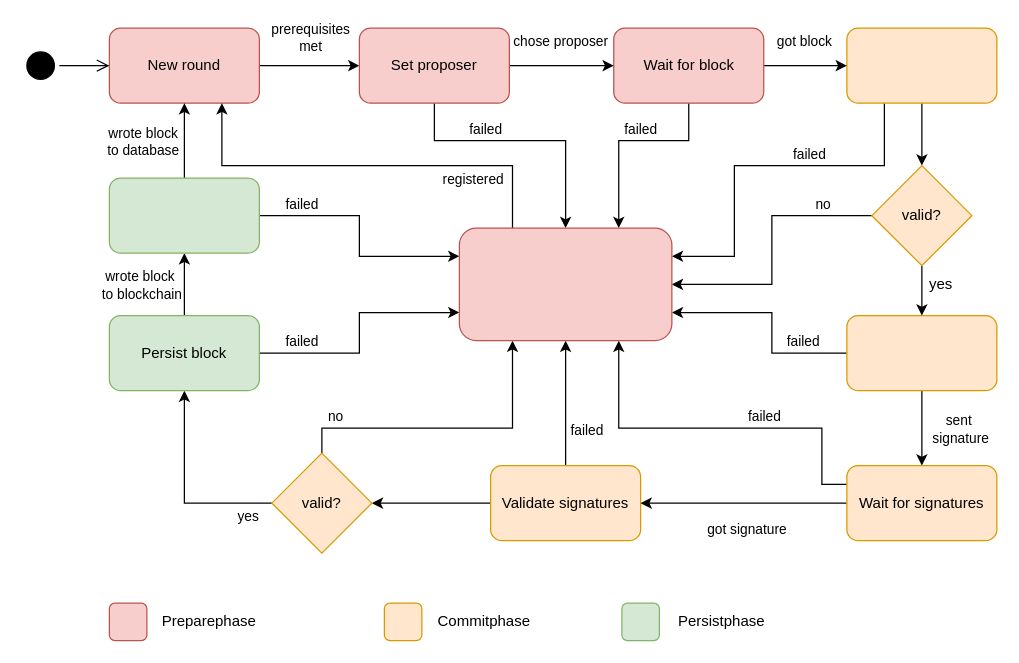
The diagram is 1019 pixels wide and 663 high, and some of its shapes have lost their labels. The shapes that lost their labels are listed below. From the top down, each one's centre as x and y in pixels, then its label:
the point at 921,65: Validate block
the point at 183,215: Parse block
the point at 565,284: Round change
the point at 921,352: Sign block
